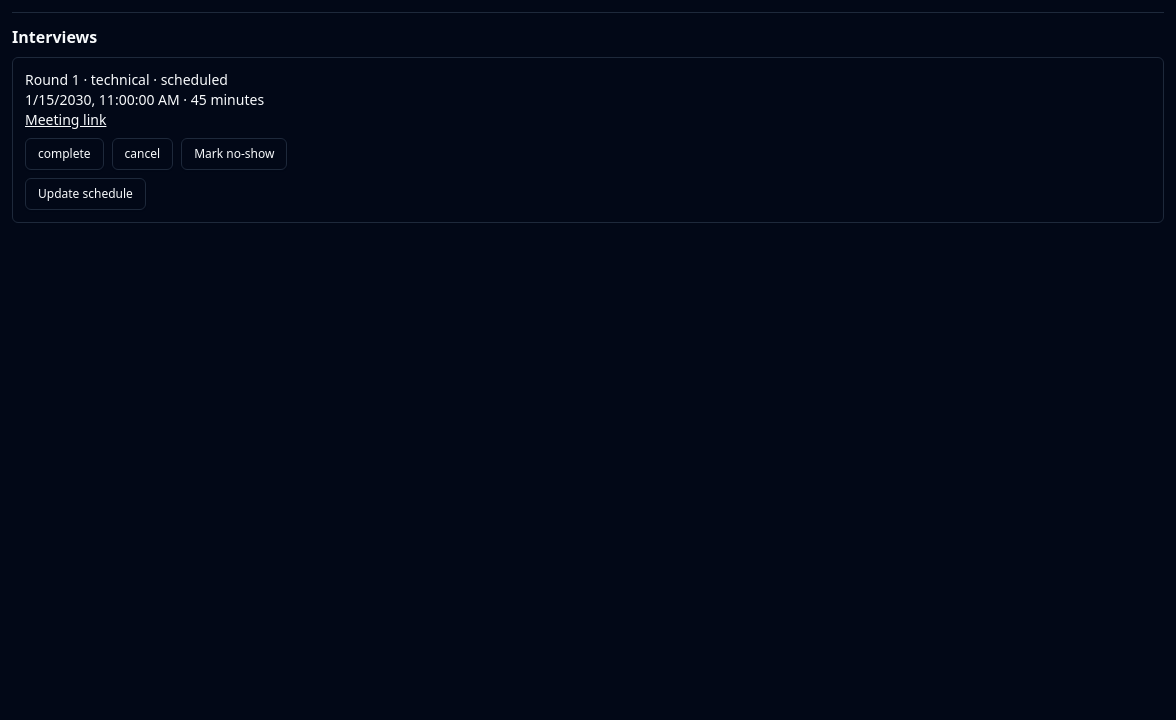
InterviewPanel › completes an interview and submits interviewer feedback
This screenshot has width=1176, height=720.
Step 1. Click the button "complete" → (64,154), box x1=25 y1=138 x2=104 y2=170
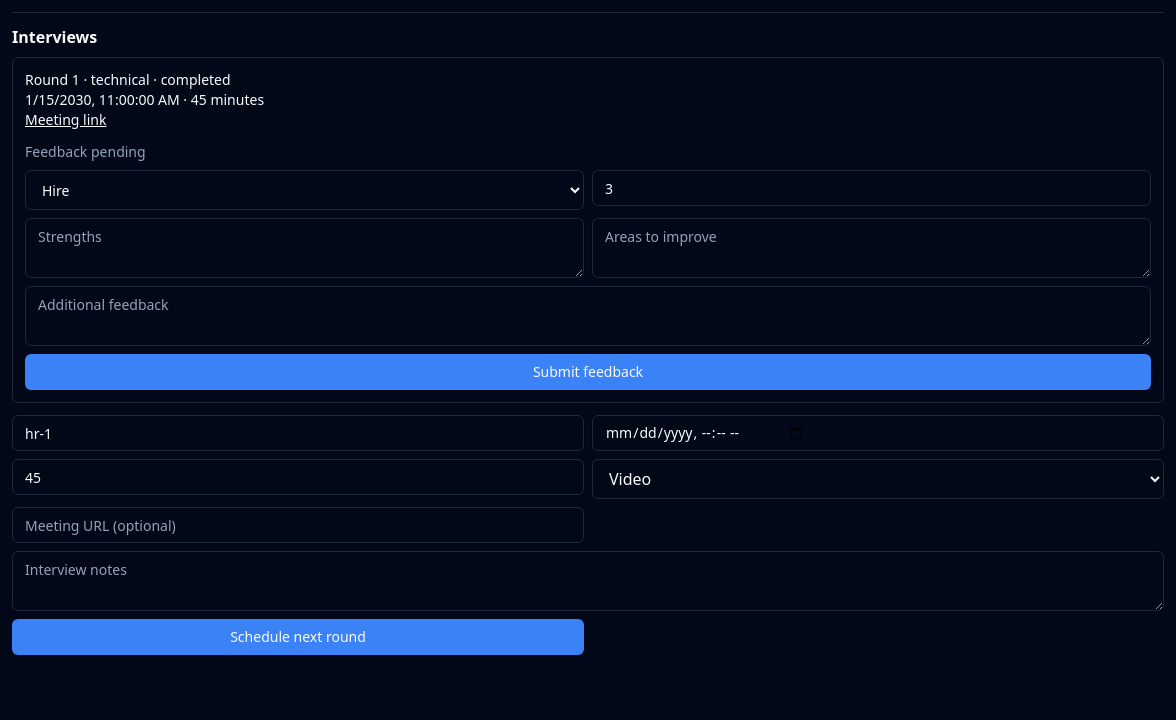
Check: the button "Submit feedback" is shown, box x1=25 y1=354 x2=1151 y2=390
Step 2. Select "Strong hire" in the dropdown named "Recommendation" → (304,190), box x1=25 y1=170 x2=584 y2=210
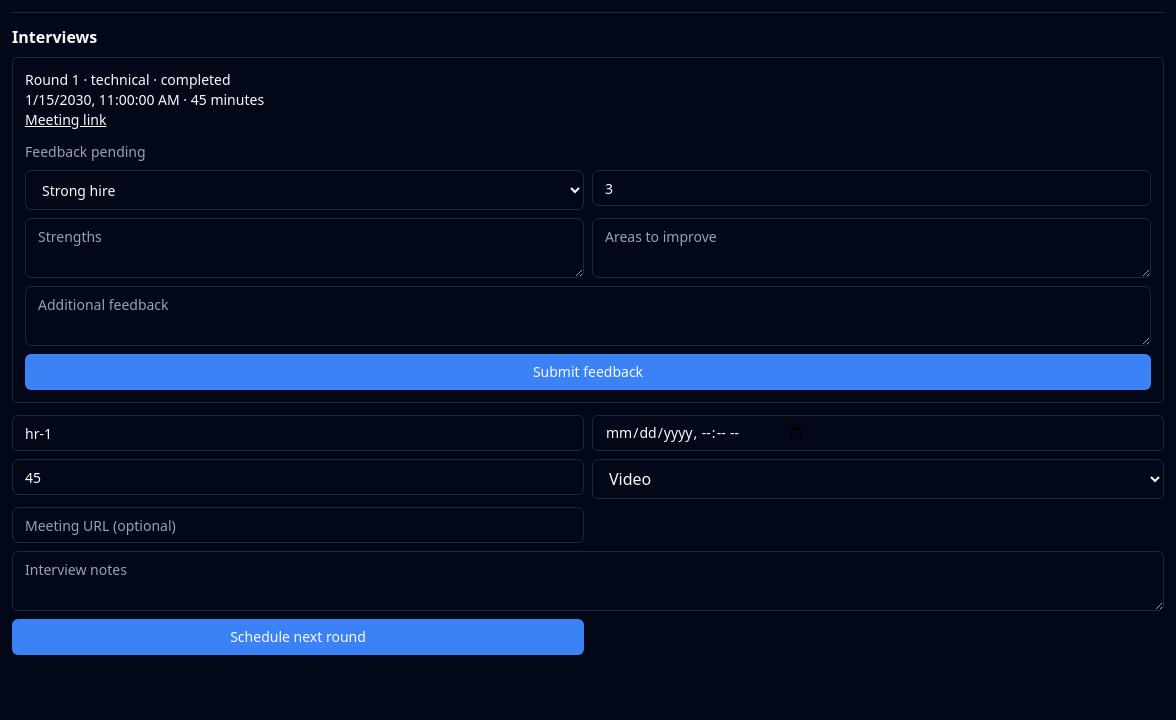
Step 3. Click the button "Submit feedback" → (588,372), box x1=25 y1=354 x2=1151 y2=390
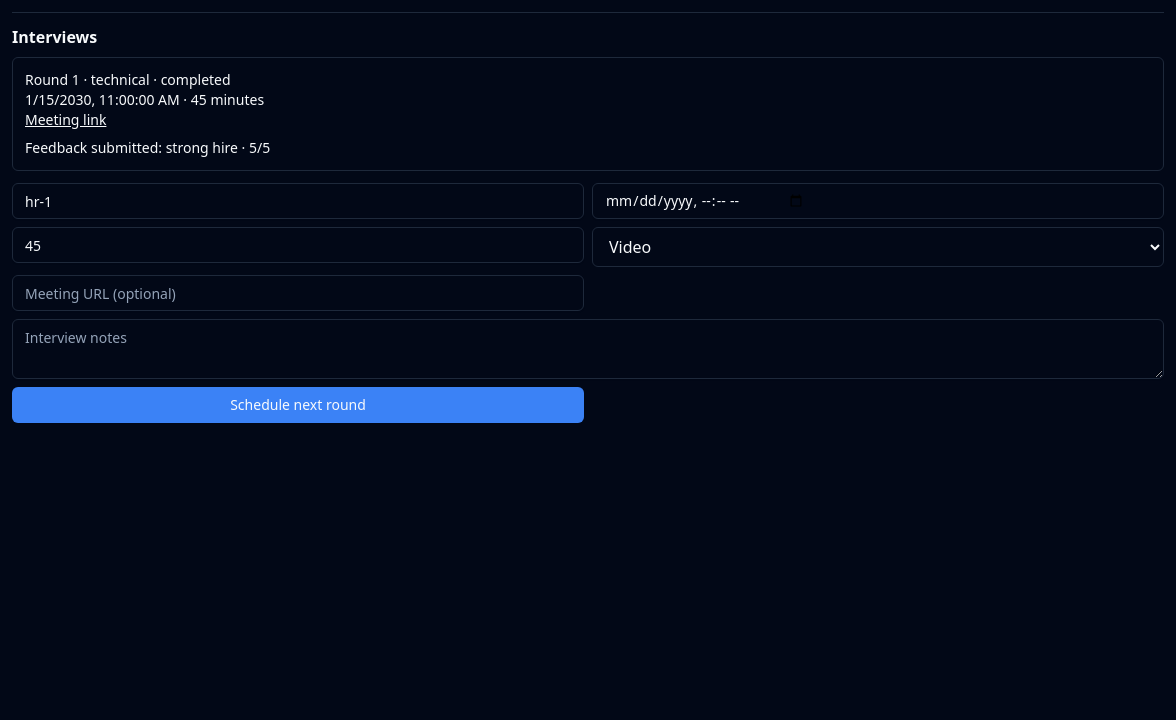
Check: the text "Feedback submitted: strong hire · 5/5" is shown, box x1=25 y1=138 x2=270 y2=157
